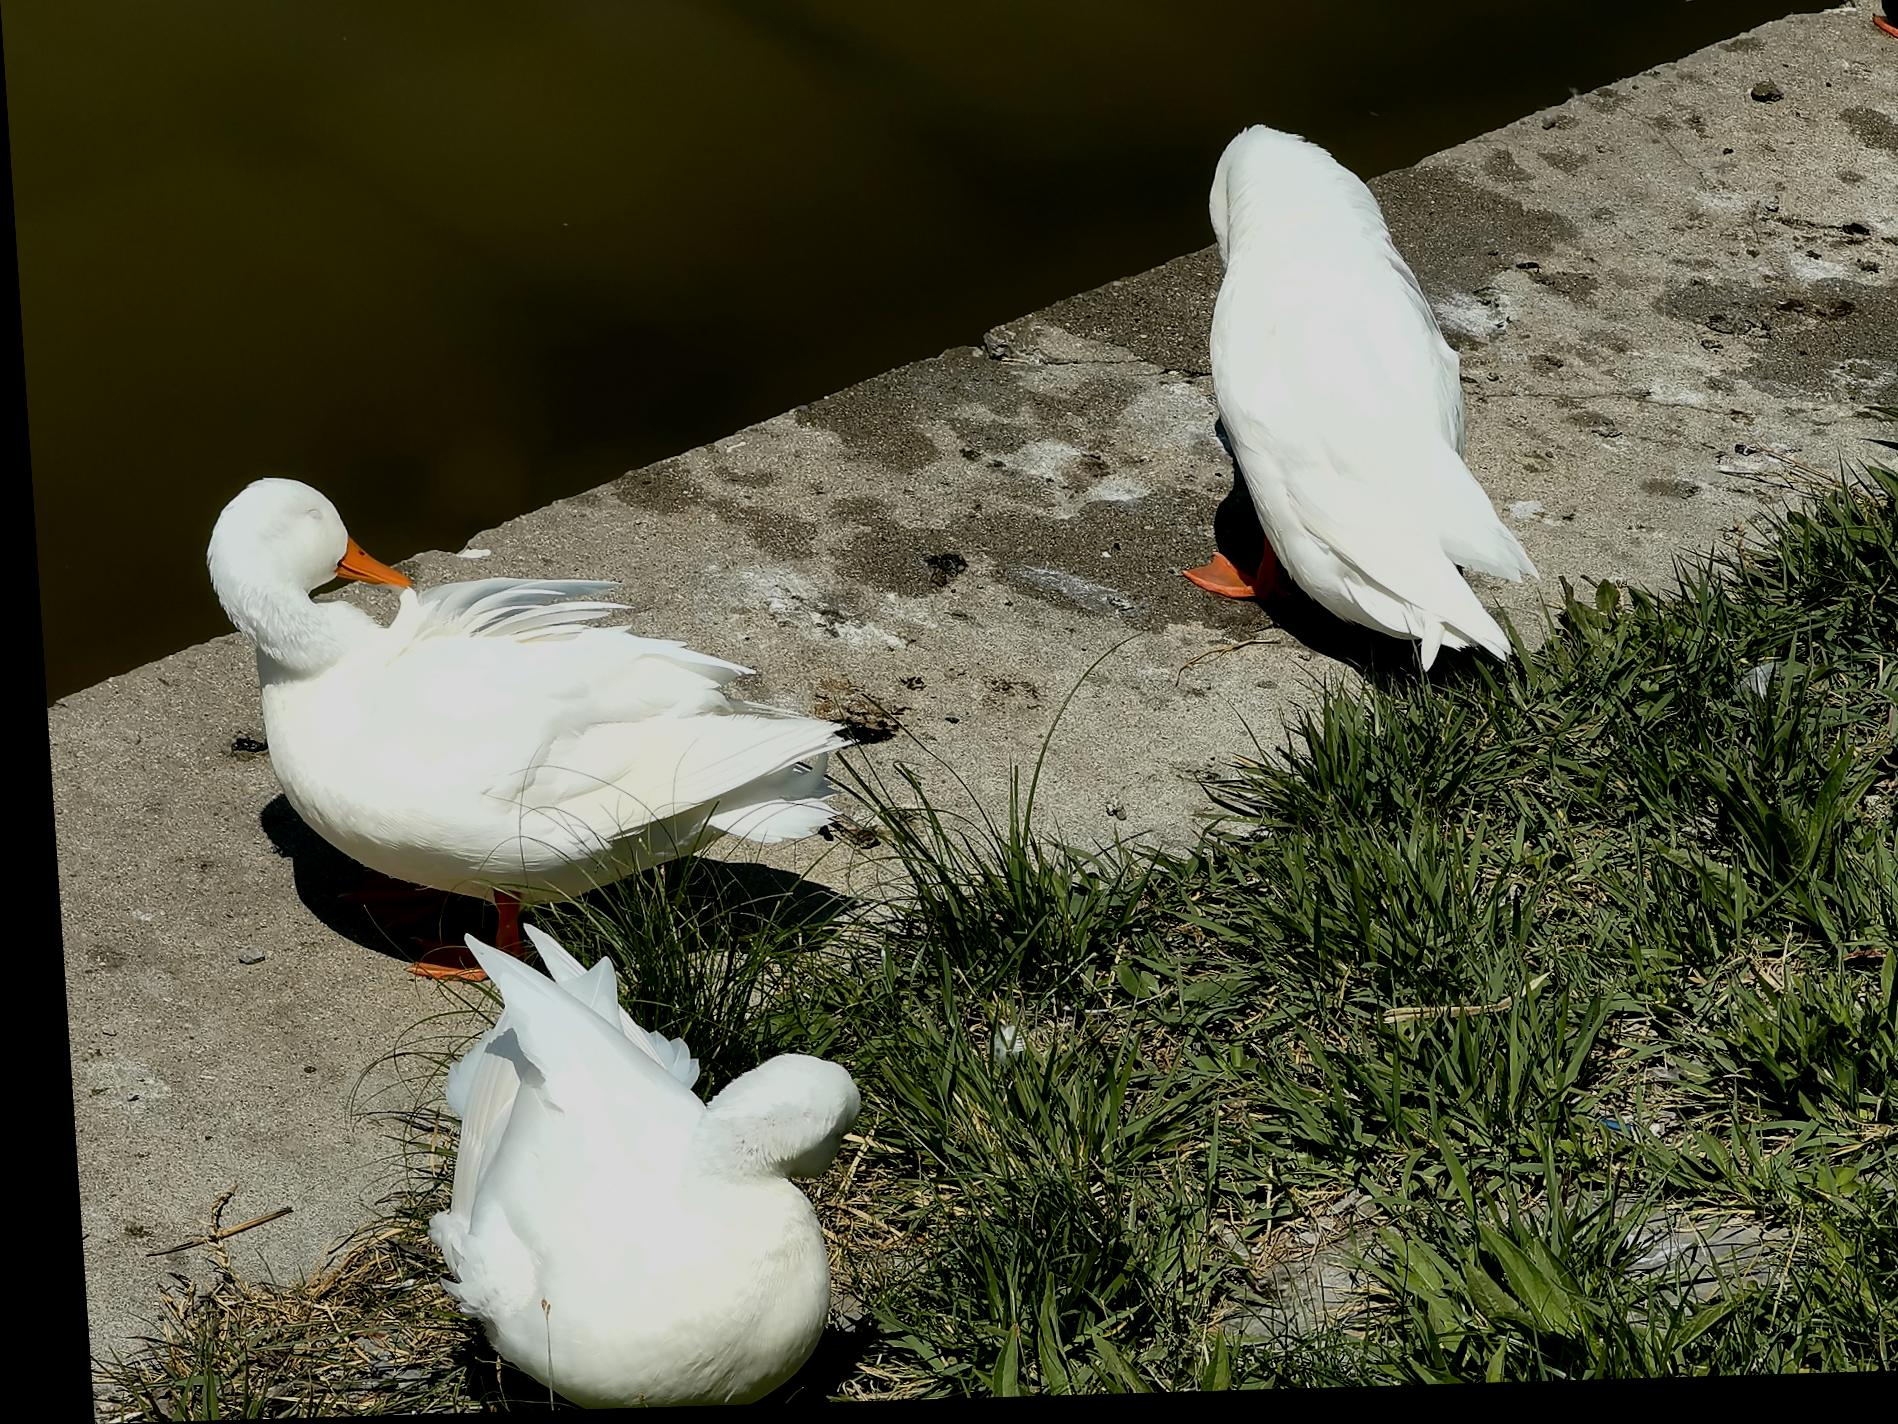duck: (185, 463, 839, 995), (404, 911, 879, 1416), (1150, 117, 1543, 675)
